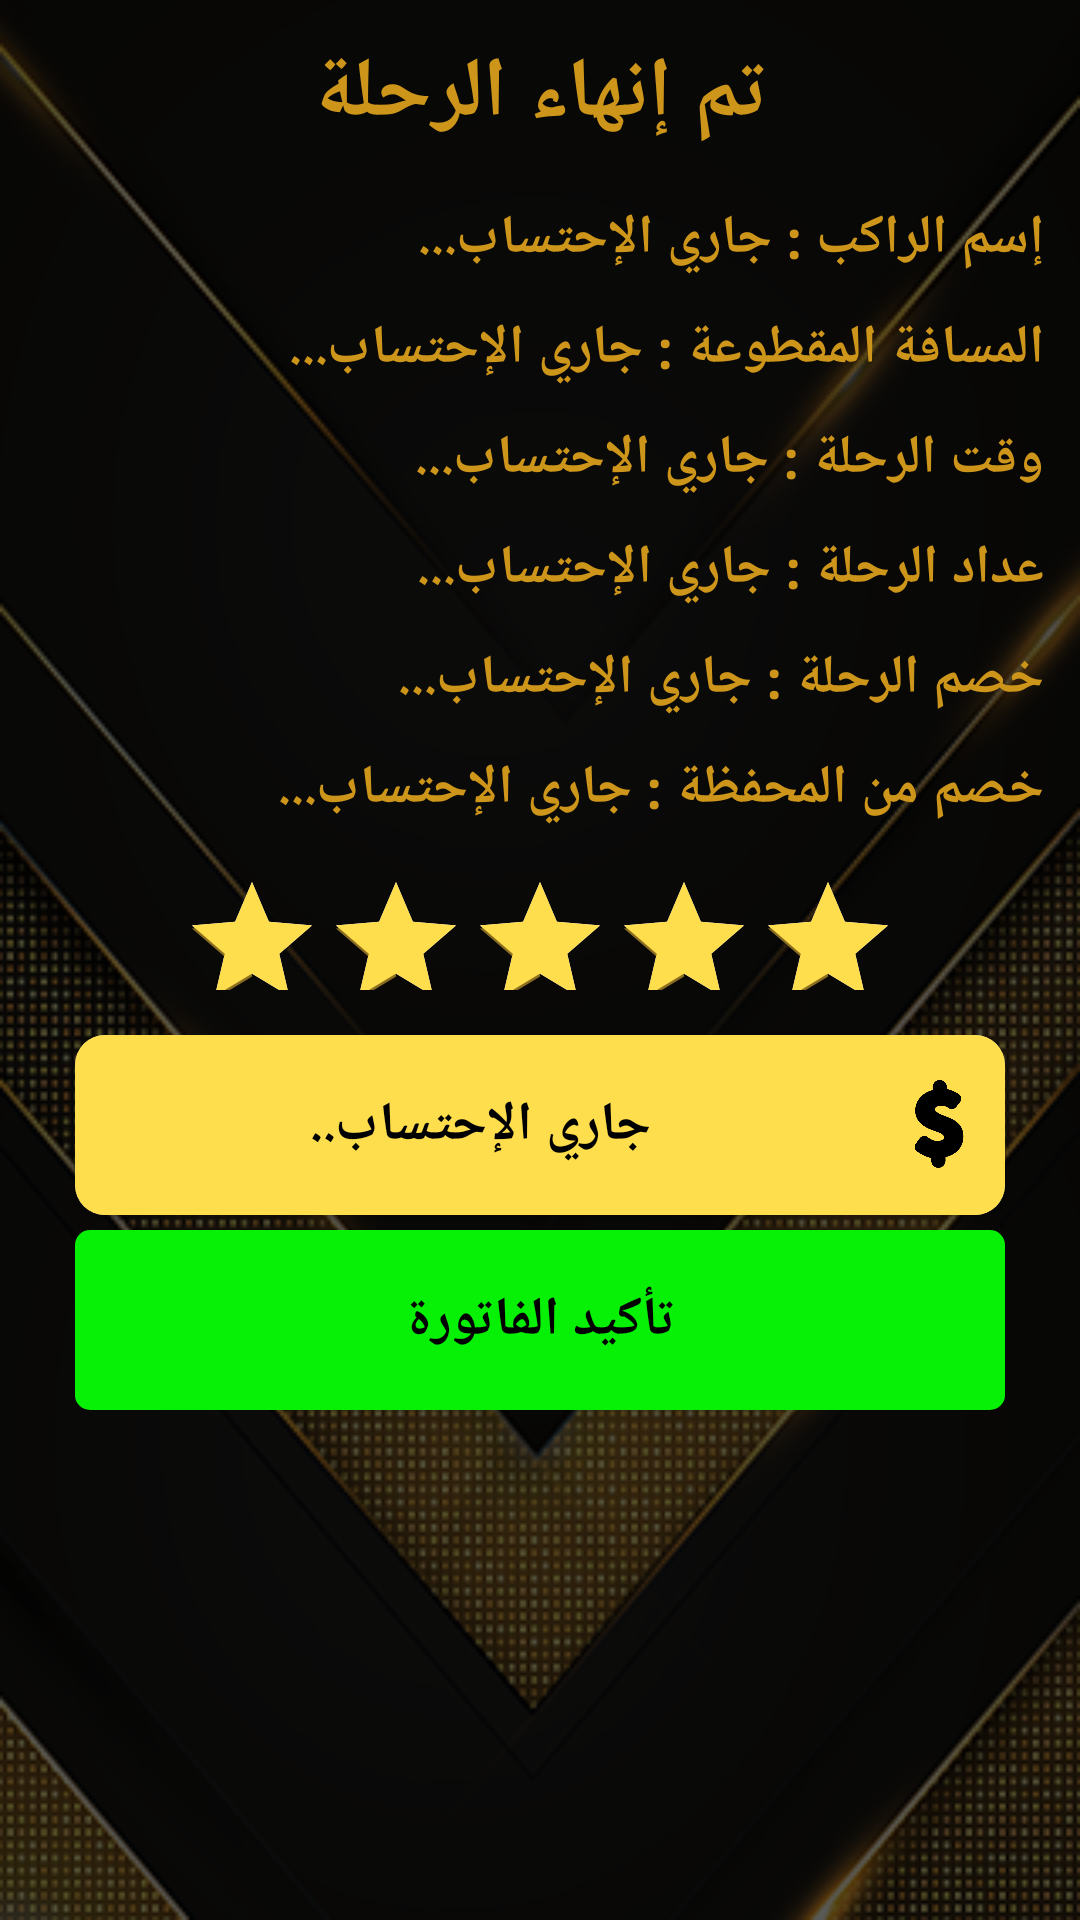

Icons on this 1080x1920 Android screen, each with its box as (x1, y1, x2, y2):
cash: (915, 1080, 964, 1168)
